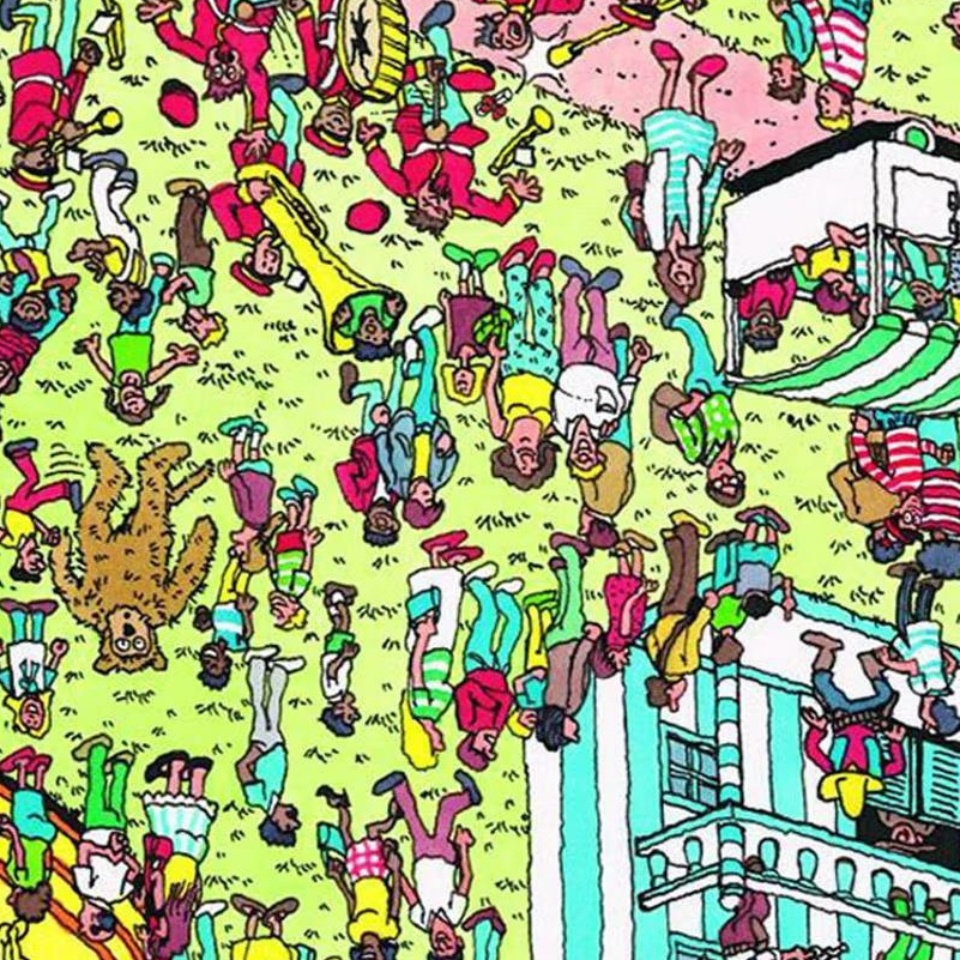waldo: (853, 415, 957, 545)
